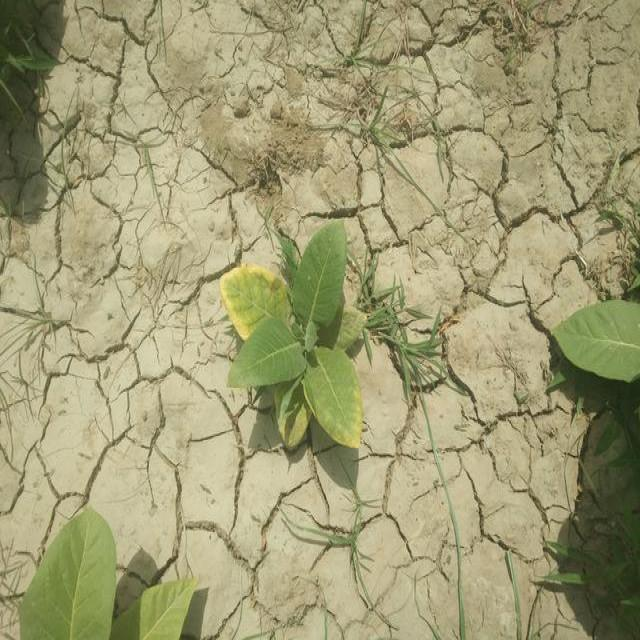crop: (230, 231, 374, 455), (27, 504, 190, 640), (558, 296, 640, 386)
